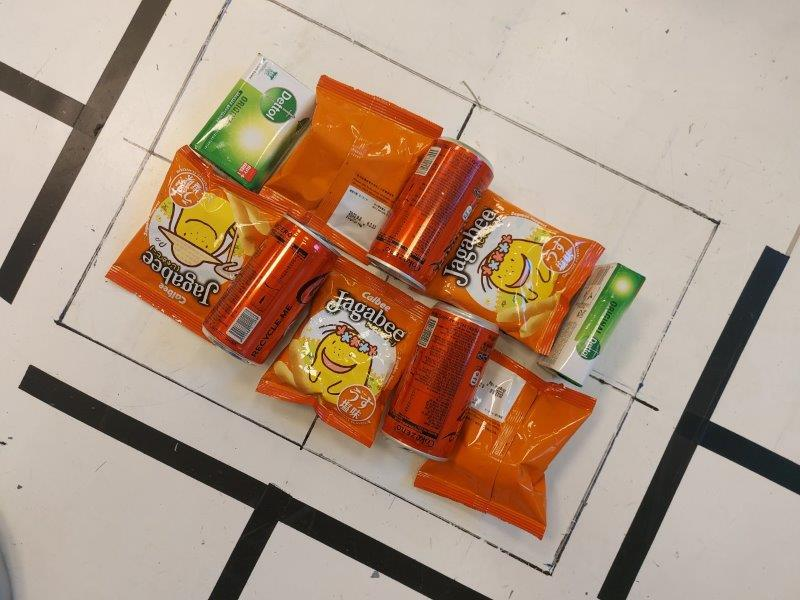Coke: (199, 216, 335, 366), (367, 138, 495, 293), (379, 302, 499, 463)
Dettol: (190, 53, 316, 191), (538, 262, 647, 387)
Jagabee: (106, 146, 306, 340), (414, 346, 599, 541), (258, 75, 446, 266), (258, 257, 441, 450), (411, 186, 604, 357)
